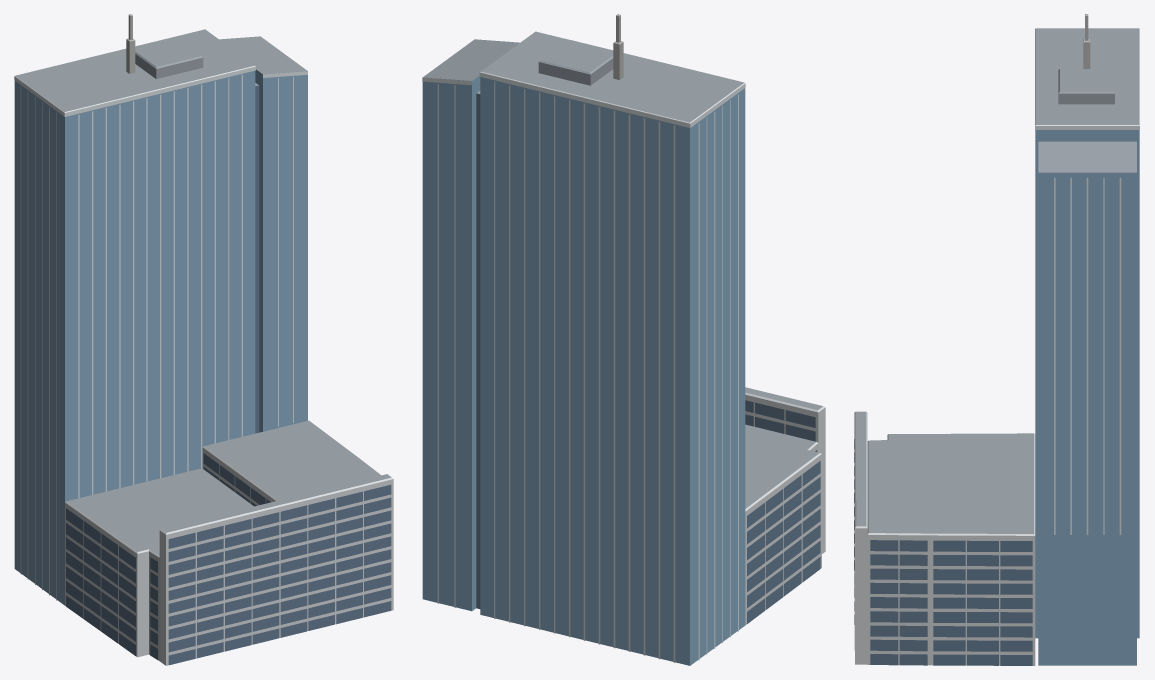
Rendered from atx-fairmont-austin.glb.
3 views of the same model, side by side, from view 1: azimuth 30°, elevation 25°; view 2: azimuth 150°, elevation 25°; view 3: azimuth 270°, elevation 25° (orthographic). The views are drawn at different scales.
Parts seen in each view (by area): view 1: Fairmont Austin; view 2: Fairmont Austin; view 3: Fairmont Austin.
Part boxes in pixels (bbox=[...]): Fairmont Austin: bbox=[14, 14, 393, 665]; Fairmont Austin: bbox=[422, 14, 825, 665]; Fairmont Austin: bbox=[854, 14, 1139, 665].
Size of the model in its own units: 83.8 by 179 by 81.2.
